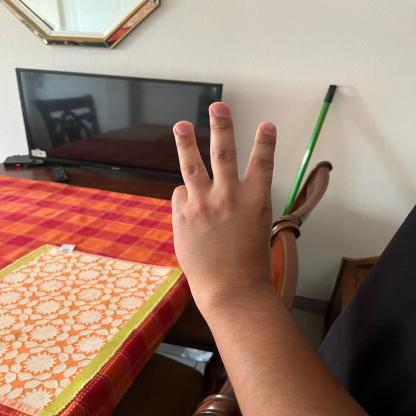W: (167, 98, 280, 280)
